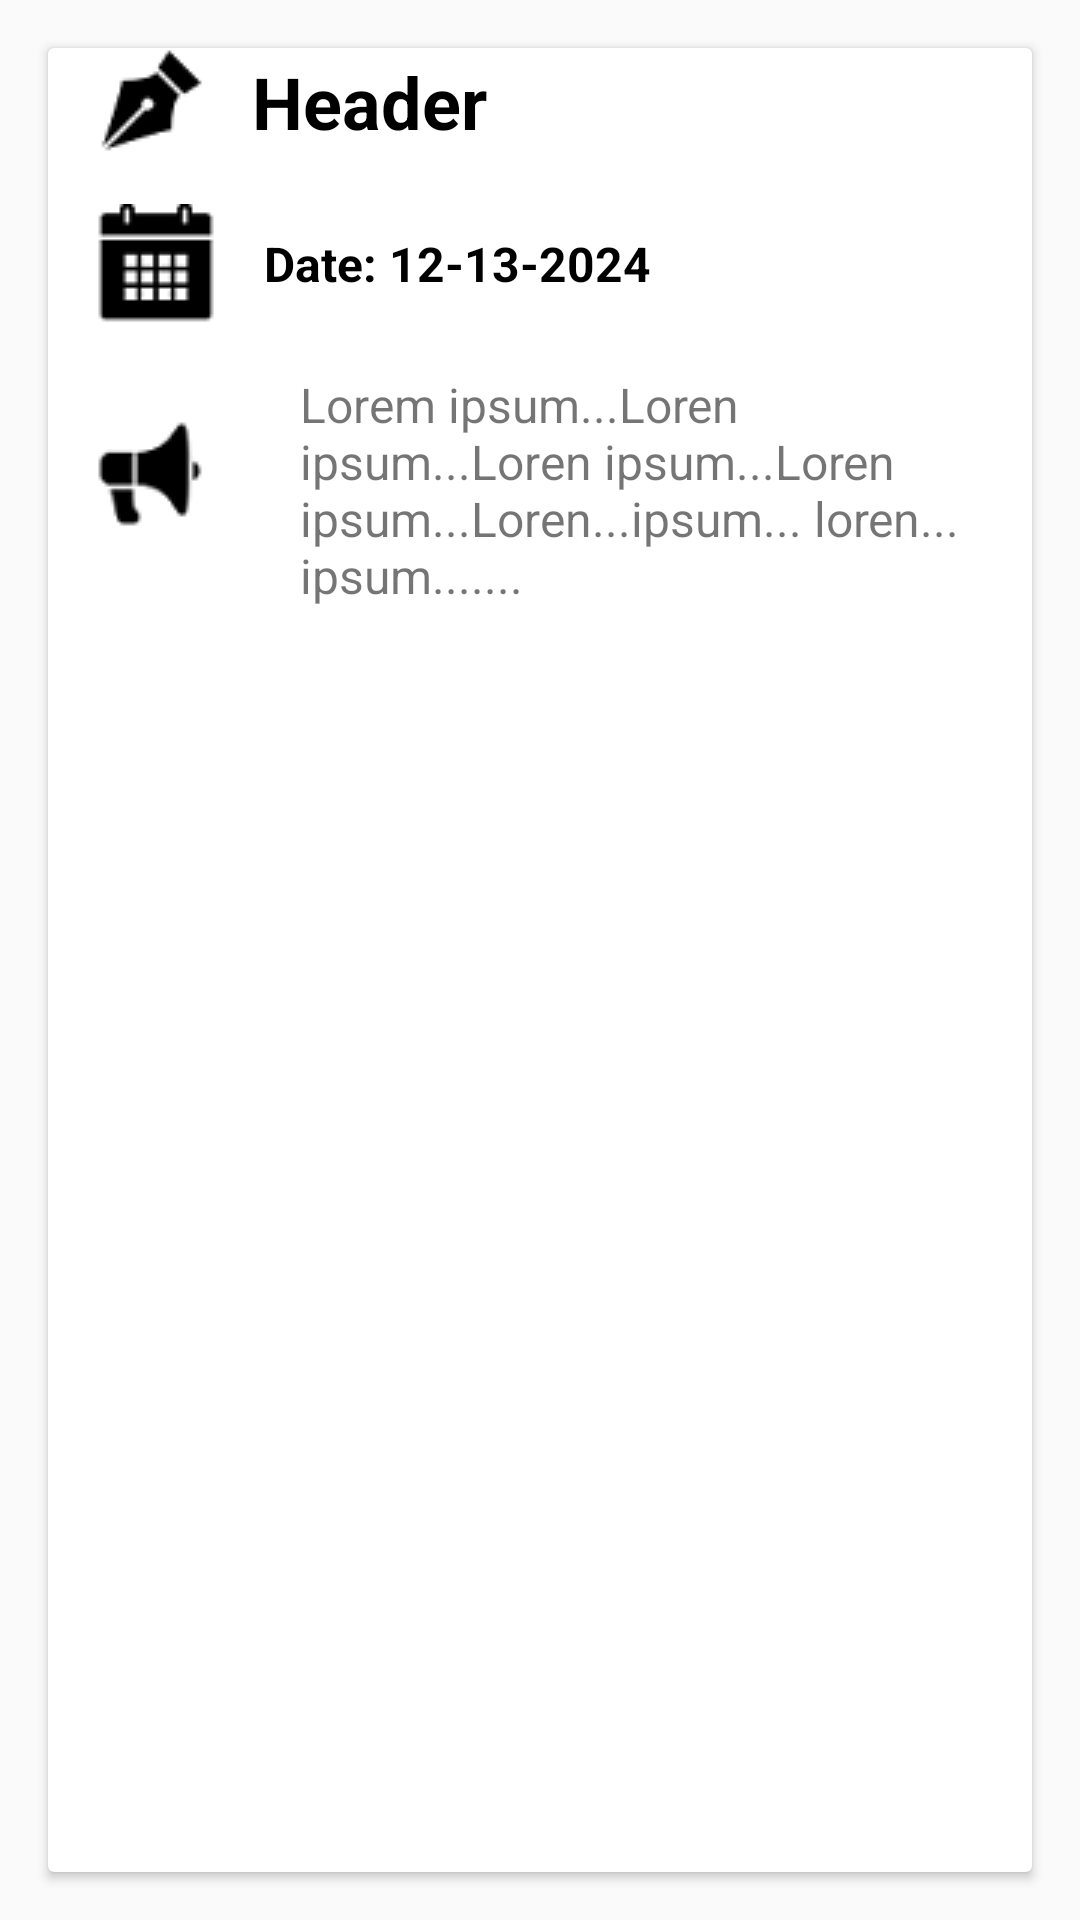

Point at icon controls on the screen. Image size 1080 × 1920, points as [x,y].
Announcement: [150,474]
